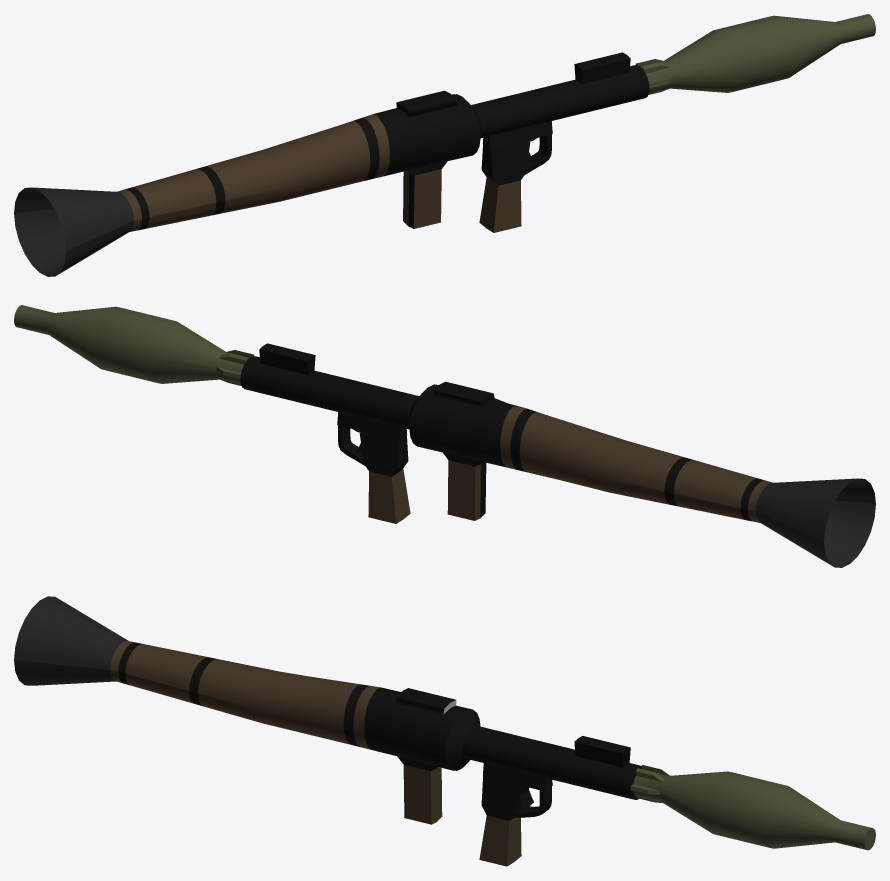
Rendered from Rocket Launder.fbx.
3 views of the same model, one above another, from view 1: azimuth 30°, elevation 25°; view 2: azimuth 150°, elevation 25°; view 3: azimuth 330°, elevation 25° (orthographic).
Parts seen in each view (by area): view 1: Rocket_launder, Warhead; view 2: Rocket_launder, Warhead; view 3: Rocket_launder, Warhead.
Part boxes in pixels (x1=…): Rocket_launder: x1=14, y1=52, x2=649, y2=276; Warhead: x1=635, y1=14, x2=875, y2=94; Rocket_launder: x1=240, y1=343, x2=875, y2=567; Warhead: x1=14, y1=305, x2=254, y2=385; Rocket_launder: x1=14, y1=596, x2=642, y2=866; Warhead: x1=630, y1=765, x2=875, y2=850.
Size of the model in its own units: 20.8 by 3.5 by 2.26.
